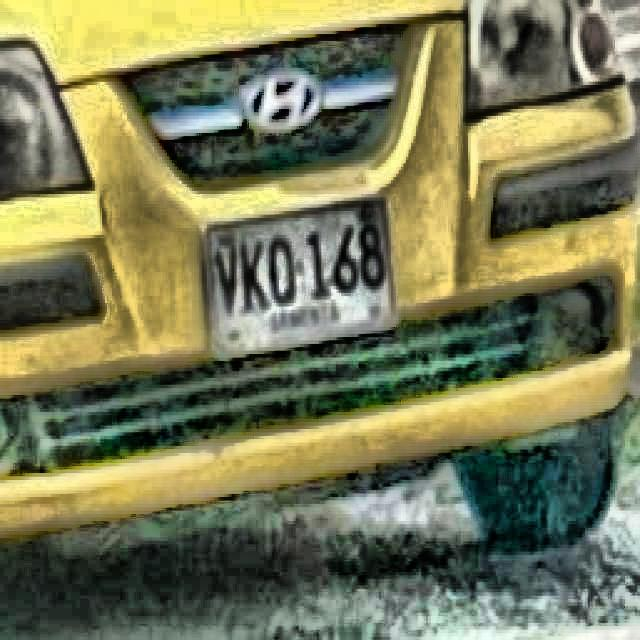plate: (208, 203, 396, 355)
